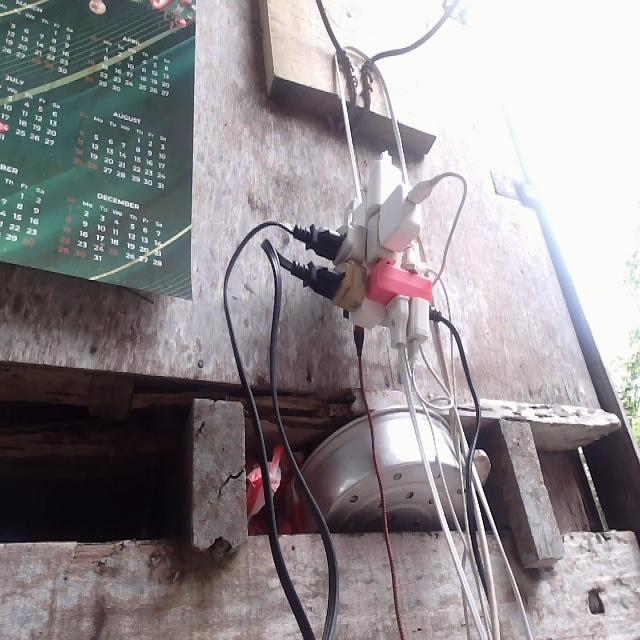-: (283, 146, 447, 358)
